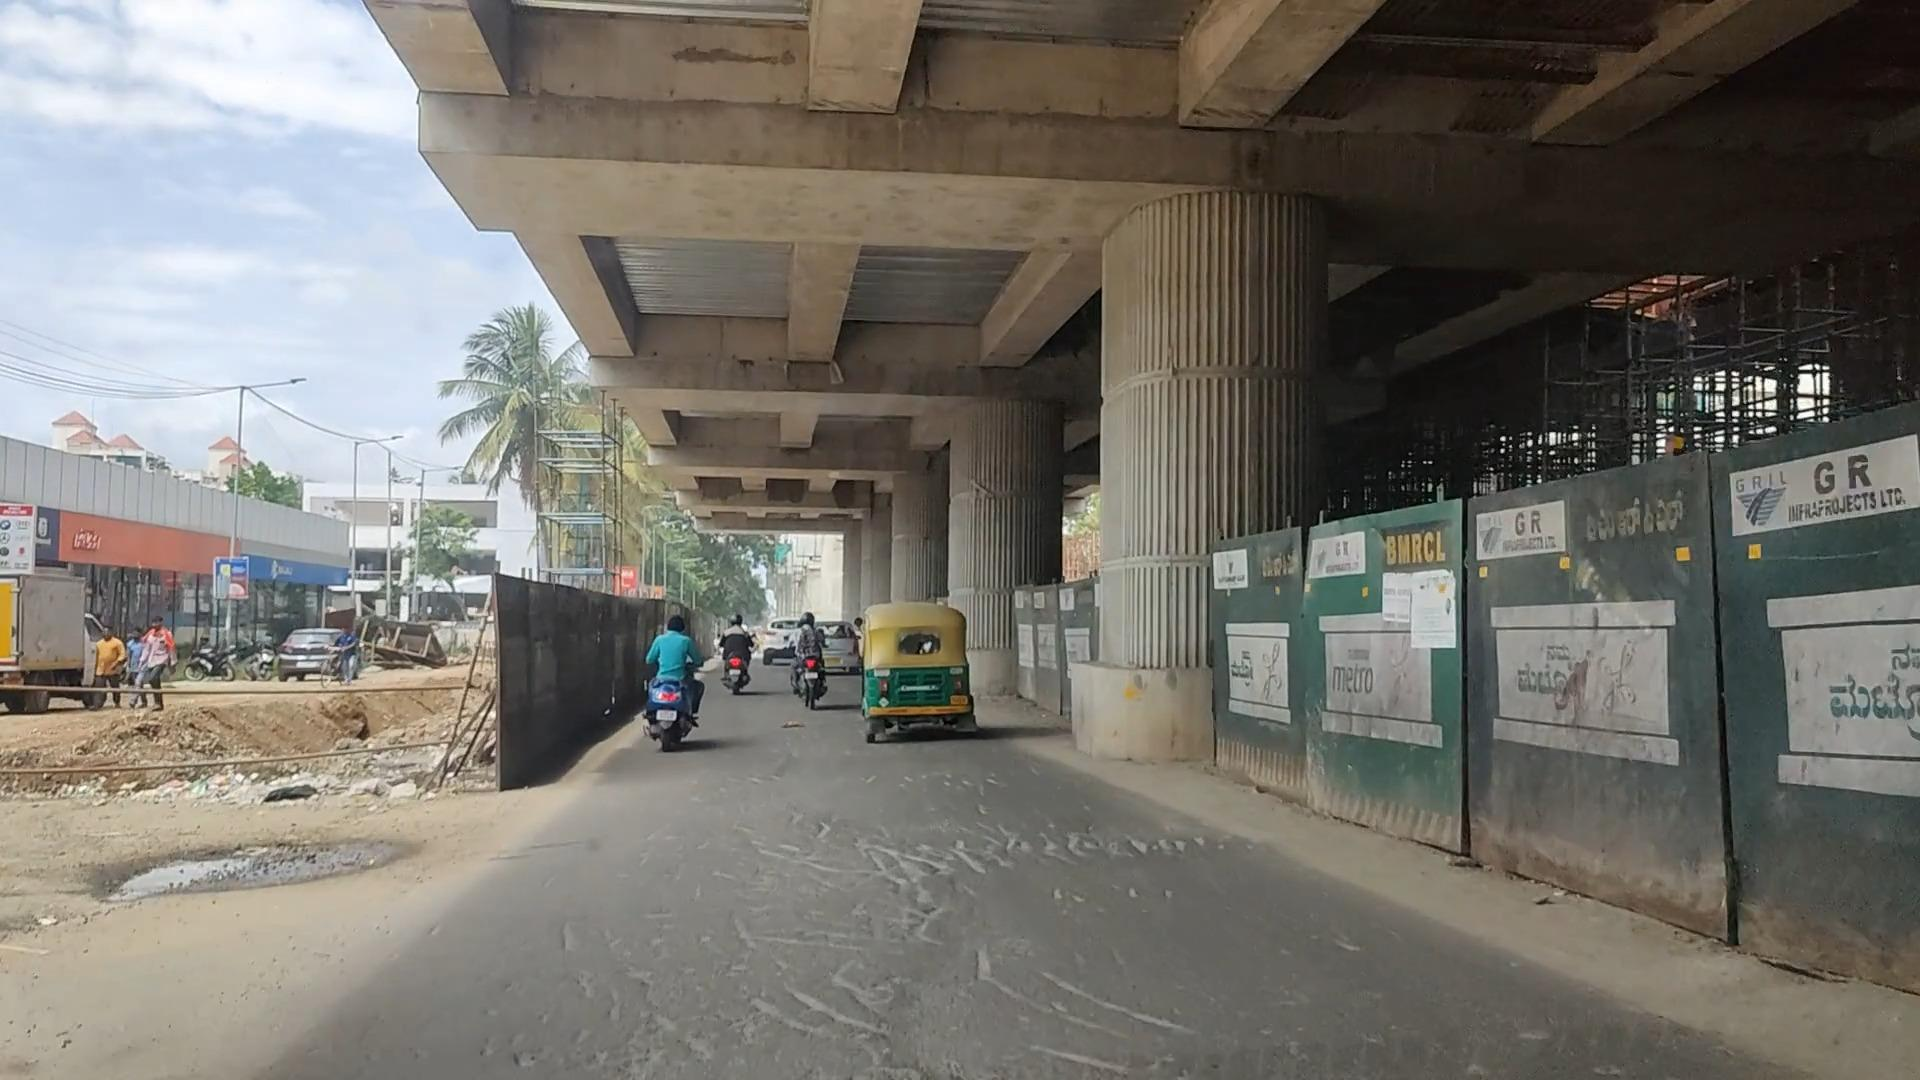LMV: (859, 602, 982, 771), (643, 607, 703, 767), (792, 611, 839, 748)
RoadDamages: (575, 904, 1681, 1072), (704, 778, 1243, 921), (74, 818, 422, 932)
